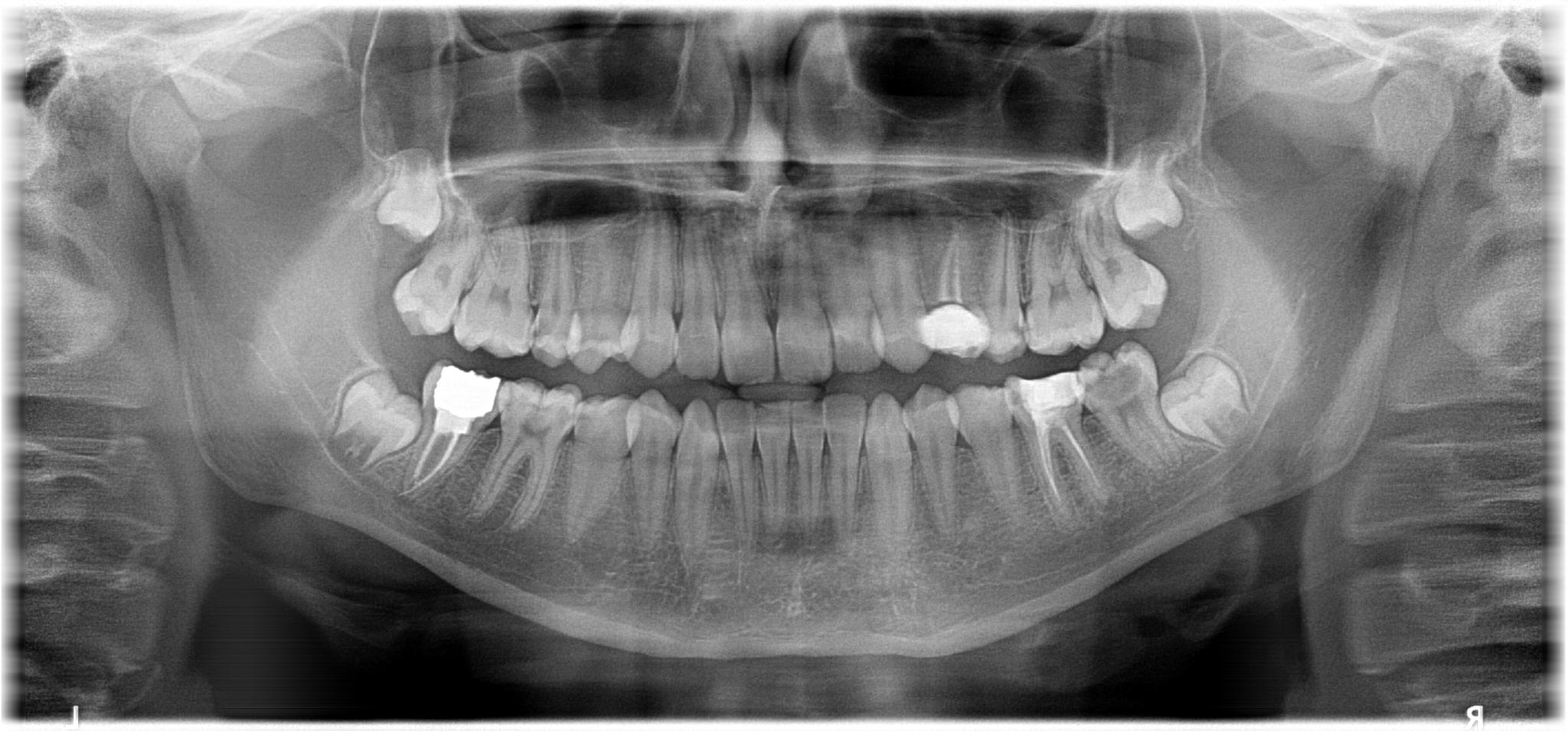Premolars: (542, 184, 1568, 547), (593, 167, 1568, 508), (624, 177, 1568, 520), (510, 136, 1532, 356), (296, 187, 846, 556), (217, 169, 633, 563), (276, 95, 812, 366), (593, 102, 1568, 247), (196, 168, 557, 529), (193, 56, 575, 232)
